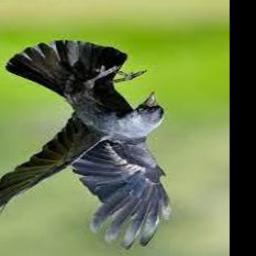Crow: (0, 41, 170, 250)
